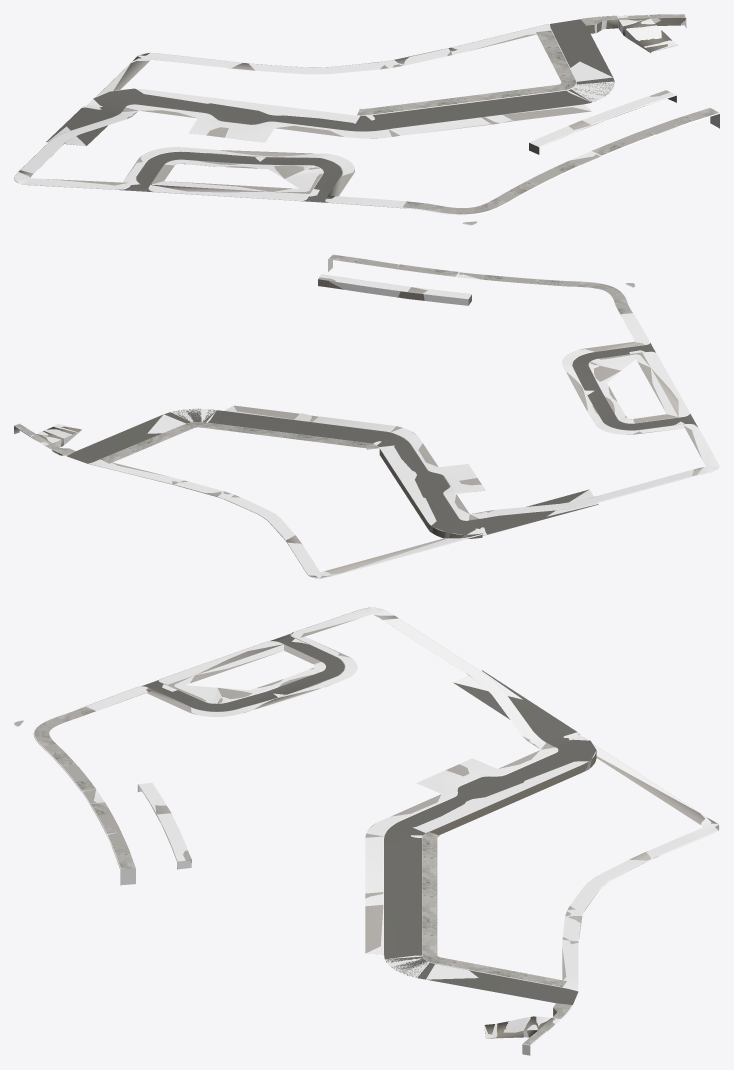
The model's file is sidewalk_hospital.dae.
3 views of the same model, one above another, from view 1: azimuth 30°, elevation 25°; view 2: azimuth 150°, elevation 25°; view 3: azimuth 270°, elevation 25° (orthographic). The views are drawn at different scales.
Visible parts, largest first — view 1: Colmesh-1, sidewalk_hospital_a2000; view 2: Colmesh-1, sidewalk_hospital_a2000; view 3: Colmesh-1, sidewalk_hospital_a2000.
Part boxes in pixels (x1,y1,x2,y2): Colmesh-1: (14, 14, 719, 225); sidewalk_hospital_a2000: (18, 15, 686, 214); Colmesh-1: (14, 254, 719, 578); sidewalk_hospital_a2000: (14, 260, 703, 578); Colmesh-1: (14, 607, 719, 1055); sidewalk_hospital_a2000: (35, 615, 718, 1040).
Bounding box in the file's own units: 228 × 187 × 30.53.
